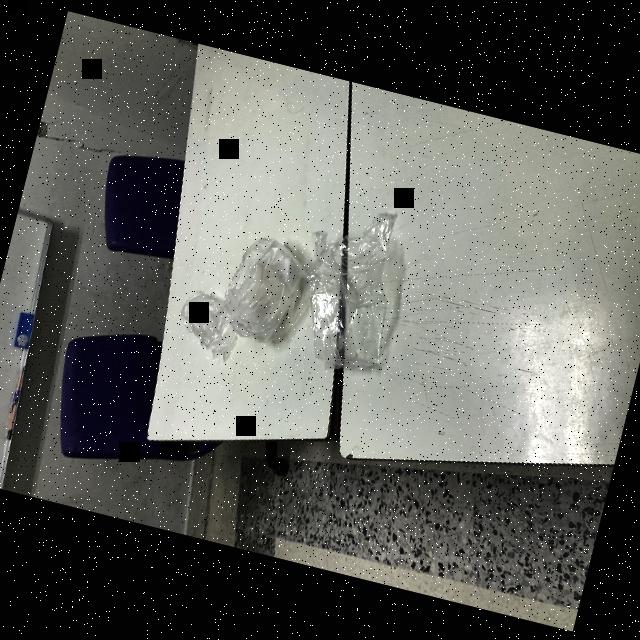plastic_bag: (278, 202, 424, 390), (222, 228, 322, 349), (161, 270, 253, 364)
